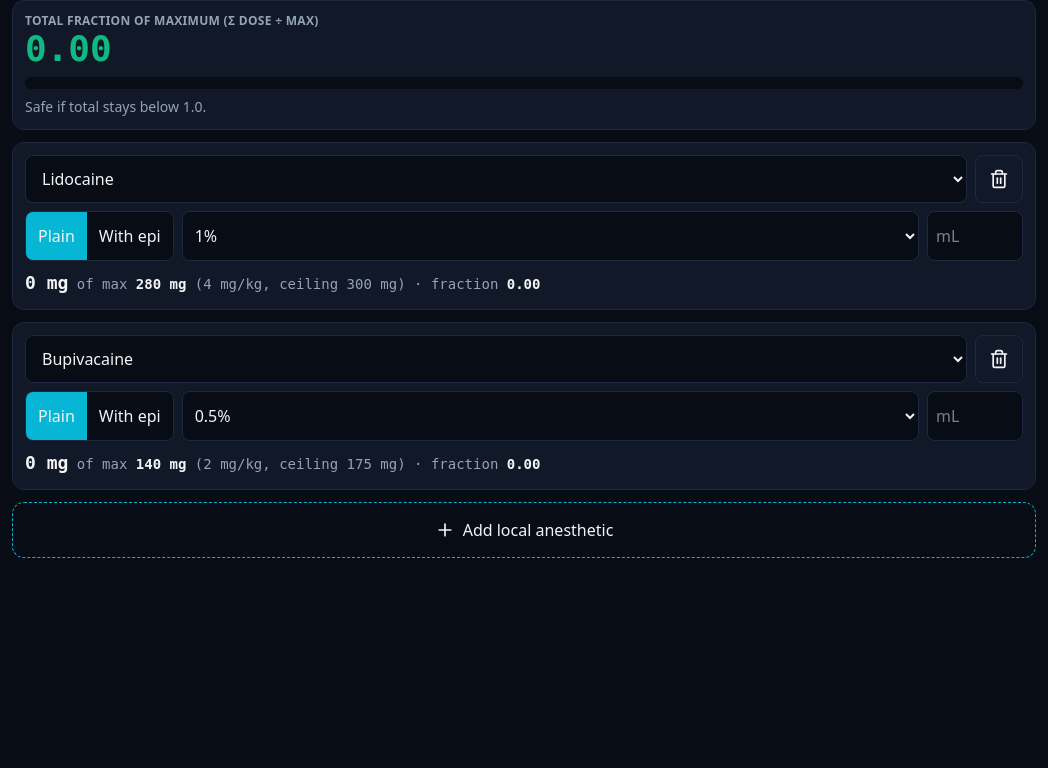
Test: LocalMaxView › flags toxic when the combined fractions reach 1.0
The width and height of the screenshot is (1048, 768).
Step 1. Type "10" into the field named "volume in ml" → [975, 236], box [927, 211, 1023, 261]
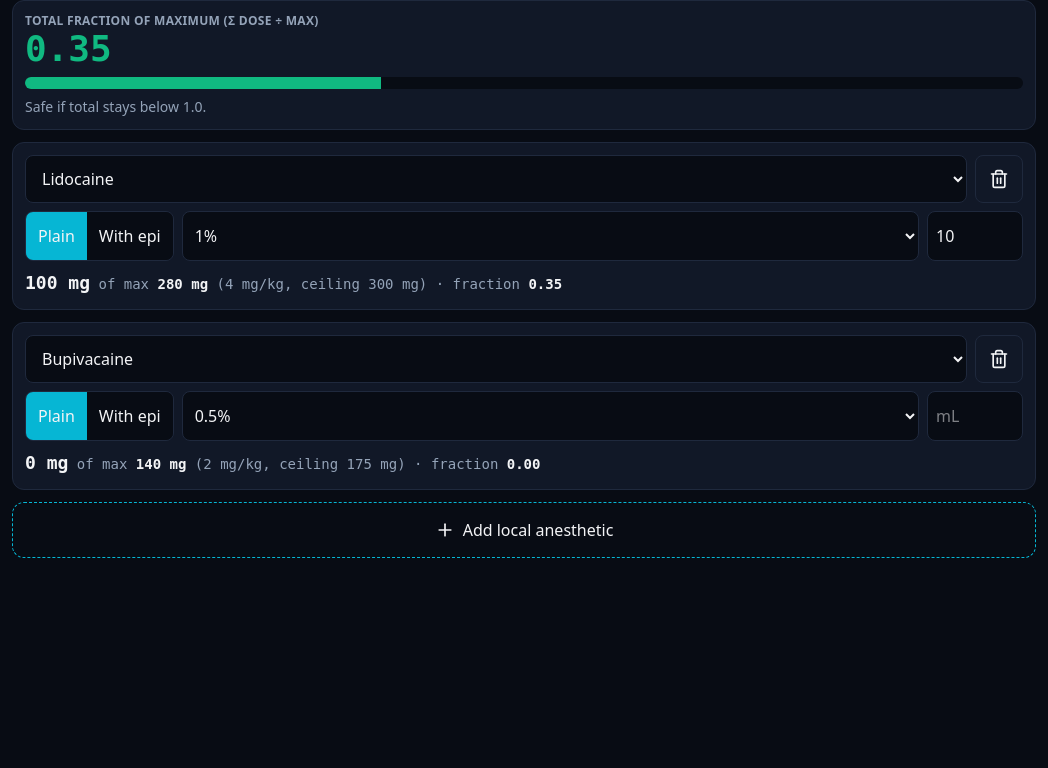
Step 2. Type "25" into the field named "volume in ml" → [975, 416], box [927, 391, 1023, 441]
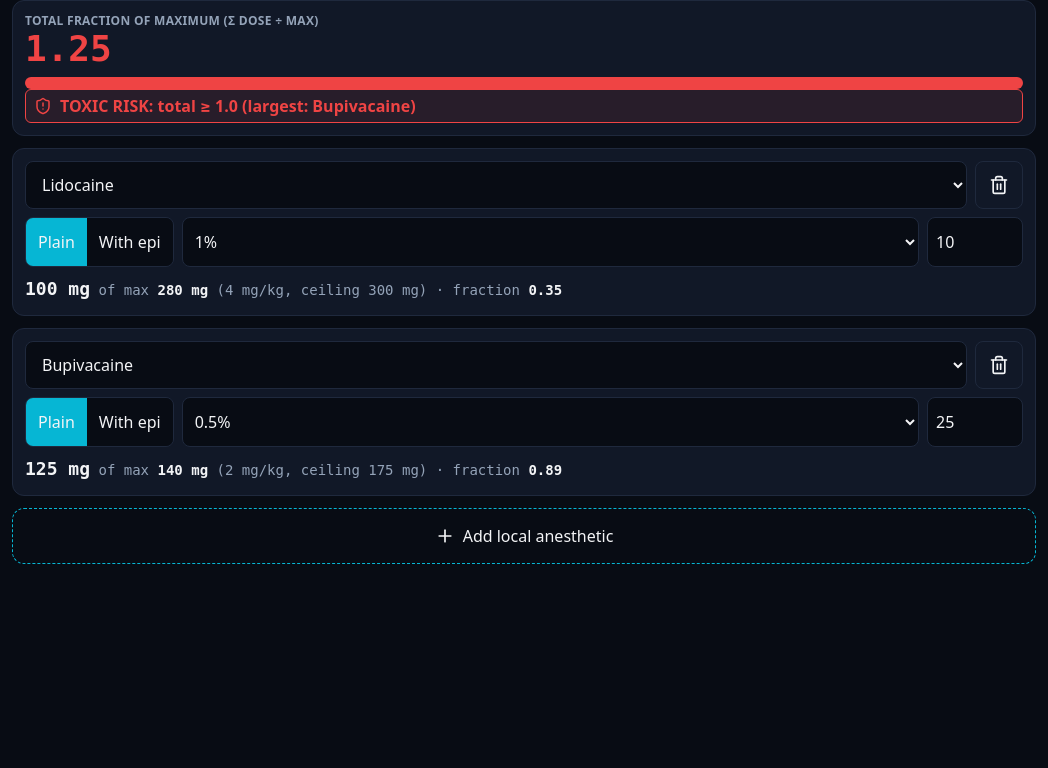
Expected: the text "TOXIC RISK: total ≥ 1.0 (largest: Bupivacaine)" is shown, [60, 94, 416, 118]
